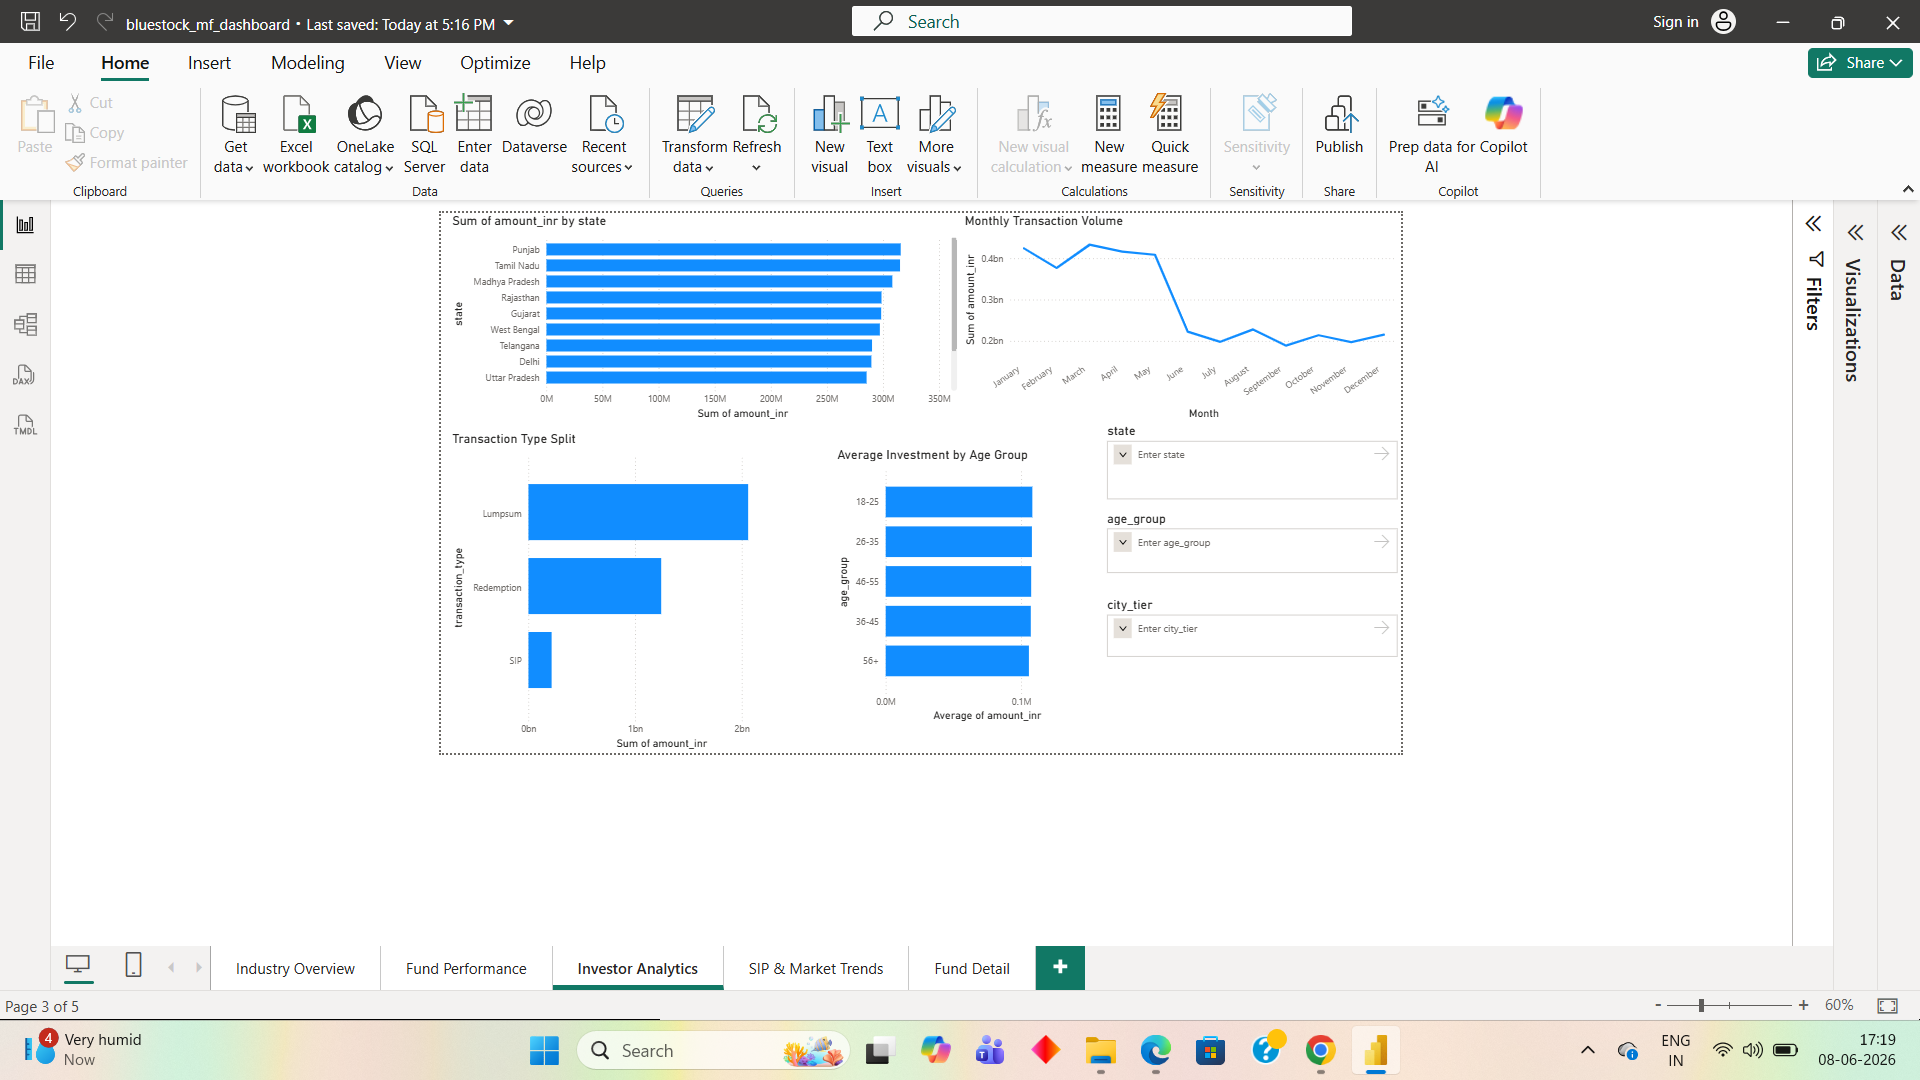

The page's visual inventory and layout, read from the dashboard file:
{"tool":"powerbi","page":{"name":"Investor Analytics","canvas":[1280,720],"ordinal":2},"visuals":[{"type":"clusteredBarChart","fields":{"Category":["08_investor_transactions_clean.state"],"Y":["Sum(08_investor_transactions_clean.amount_inr)"]},"box":[10,0,683.3,280],"z":0},{"type":"clusteredBarChart","title":"Transaction Type Split","fields":{"Category":["08_investor_transactions_clean.transaction_type"],"Y":["Sum(08_investor_transactions_clean.amount_inr)"]},"box":[10,290,478.3,430],"z":1000},{"type":"clusteredBarChart","title":"Average Investment by Age Group","fields":{"Category":["08_investor_transactions_clean.age_group"],"Y":["Avg(08_investor_transactions_clean.amount_inr)"]},"box":[523.3,311.7,360,371.7],"z":2000},{"type":"lineChart","title":"Monthly Transaction Volume","fields":{"Category":["08_investor_transactions_clean.transaction_date.Variation.Date Hierarchy.Month"],"Y":["Sum(08_investor_transactions_clean.amount_inr)"]},"box":[693.3,0,586.7,280],"z":3000},{"type":"textSlicer","fields":{"Values":["08_investor_transactions_clean.state"]},"box":[883.3,280,396.7,106.7],"z":4000},{"type":"textSlicer","fields":{"Values":["08_investor_transactions_clean.age_group"]},"box":[883.3,396.7,396.7,88.3],"z":5000},{"type":"textSlicer","fields":{"Values":["08_investor_transactions_clean.city_tier"]},"box":[883.3,511.7,396.7,85],"z":6000}]}

Visuals, with their boxes on the page's 1280x720 design canvas (x1, y1, x2, y2). These are canvas units, not pixel positions in the 1920x1080 screenshot, which may show the page scaled, cropped or inside an application window:
clusteredBarChart - 08_investor_transactions_clean.state x Sum(08_investor_transactions_clean.amount_inr): [10,0,693,280]
"Transaction Type Split" clusteredBarChart: [10,290,488,720]
"Average Investment by Age Group" clusteredBarChart: [523,312,883,683]
"Monthly Transaction Volume" lineChart: [693,0,1280,280]
textSlicer - 08_investor_transactions_clean.state: [883,280,1280,387]
textSlicer - 08_investor_transactions_clean.age_group: [883,397,1280,485]
textSlicer - 08_investor_transactions_clean.city_tier: [883,512,1280,597]
